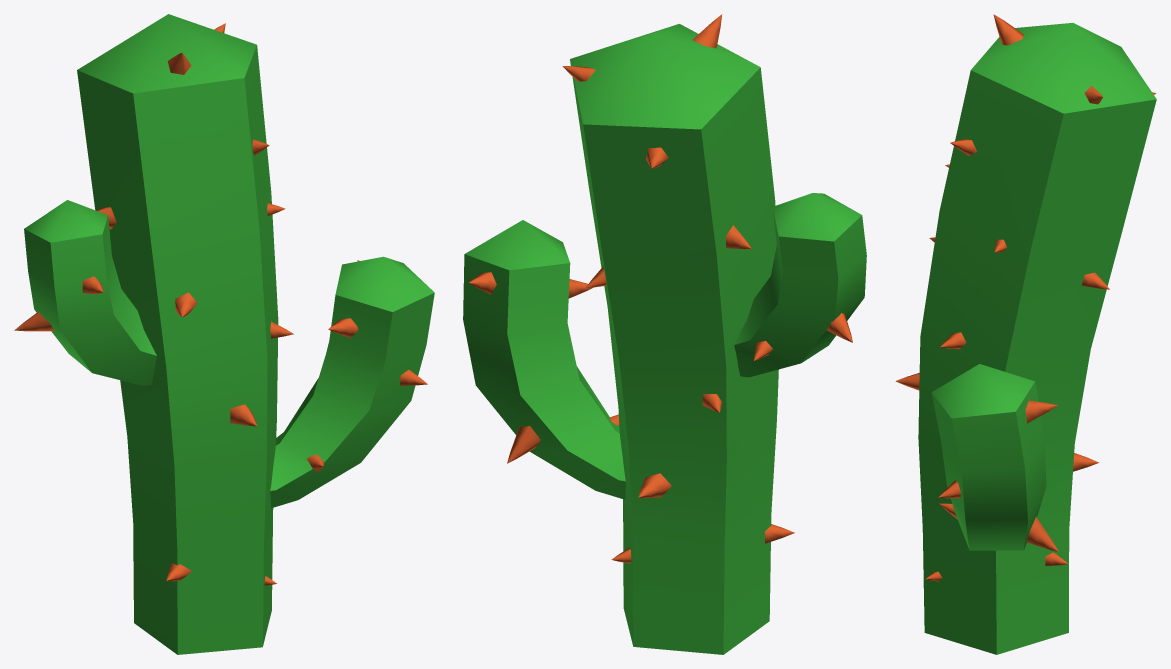
Rendered from cactus.fbx.
3 renders of one model, left to right at view 1: azimuth 30°, elevation 25°; view 2: azimuth 150°, elevation 25°; view 3: azimuth 270°, elevation 25°, orthographic. The views are drawn at different scales.
Parts seen in each view (by area): view 1: pCylinder1, pCylinder2, pCylinder3; view 2: pCylinder1, pCylinder2, pCylinder3, pCone17, pCone10; view 3: pCylinder1, pCylinder2, pCone17, pCone22, pCone13.
Boxes of the visible parts, left/top/right/bottom form: pCylinder1: left=77, top=14, right=278, bottom=654; pCylinder2: left=270, top=256, right=434, bottom=508; pCylinder3: left=24, top=200, right=156, bottom=385; pCylinder1: left=570, top=24, right=778, bottom=654; pCylinder2: left=463, top=220, right=625, bottom=499; pCylinder3: left=734, top=193, right=866, bottom=377; pCone17: left=507, top=426, right=540, bottom=463; pCone10: left=638, top=473, right=671, bottom=497; pCylinder1: left=918, top=23, right=1156, bottom=654; pCylinder2: left=931, top=364, right=1046, bottom=550; pCone17: left=1026, top=517, right=1058, bottom=552; pCone22: left=993, top=14, right=1023, bottom=45; pCone13: left=1025, top=400, right=1057, bottom=423.
Bounding box in the file's own units: 5.89 × 8.72 × 3.45.
